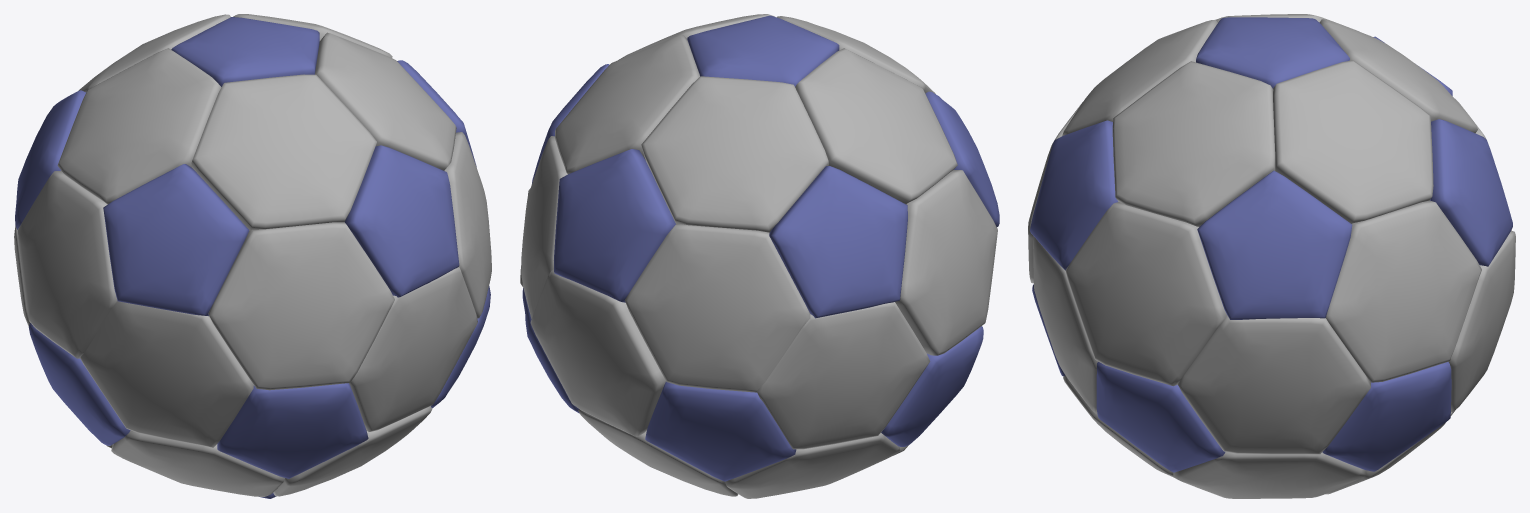
File: ball.gltf
The picture shows the model from 3 angles, left to right: view 1: azimuth 30°, elevation 25°; view 2: azimuth 150°, elevation 25°; view 3: azimuth 270°, elevation 25°; orthographic projection.
Parts seen in each view (by area): view 1: object 16, object 11, Cylinder 3 (×3), object 22, object 12, object 36, object 17, object 21, object 35, object 30, Cylinder (×3), object 31 (+4 smaller); view 2: object 18, object 13, object 23, object 12, object 37, object 17, object 24, object 38, object 14, object 32, Cylinder (×2), object 9 (+7 smaller); view 3: Cylinder 3 (×3), Cylinder (×3), object 14, object 19, object 35, object 33, object 38, object 7, object 24, object 11, object 21, object 13 (+3 smaller).
Part boxes in pixels (x1,y1,x2,y2): object 16: (208, 222, 394, 390); object 11: (191, 74, 376, 230); Cylinder 3 (×3): (111, 32, 491, 496); object 22: (80, 300, 253, 447); object 12: (57, 48, 221, 204); object 36: (103, 164, 249, 316); object 17: (18, 170, 117, 358); object 21: (349, 267, 477, 431); object 35: (344, 145, 459, 297); object 30: (217, 383, 368, 478); Cylinder (×3): (171, 17, 490, 408); object 31: (28, 323, 130, 445); object 18: (625, 223, 810, 392); object 13: (641, 76, 828, 232); object 23: (757, 302, 930, 449); object 12: (795, 48, 957, 204); object 37: (769, 166, 907, 318); object 17: (895, 170, 997, 355); object 24: (530, 269, 665, 436); object 38: (554, 149, 675, 302); object 14: (555, 35, 699, 174); object 32: (645, 381, 796, 481); Cylinder (×2): (532, 15, 839, 183); object 9: (725, 433, 899, 498); Cylinder 3 (×3): (1065, 61, 1370, 454); Cylinder (×3): (1096, 17, 1352, 472); object 14: (1273, 60, 1433, 223); object 19: (1326, 200, 1481, 382); object 35: (1030, 120, 1118, 270); object 33: (1322, 362, 1451, 471); object 38: (1430, 119, 1512, 266); object 7: (1173, 451, 1366, 498); object 24: (1448, 230, 1515, 412); object 11: (1062, 19, 1217, 135); object 21: (1033, 236, 1098, 413); object 13: (1319, 19, 1477, 133).
Bounding box in the file's own units: 1.76 × 1.79 × 1.78.
